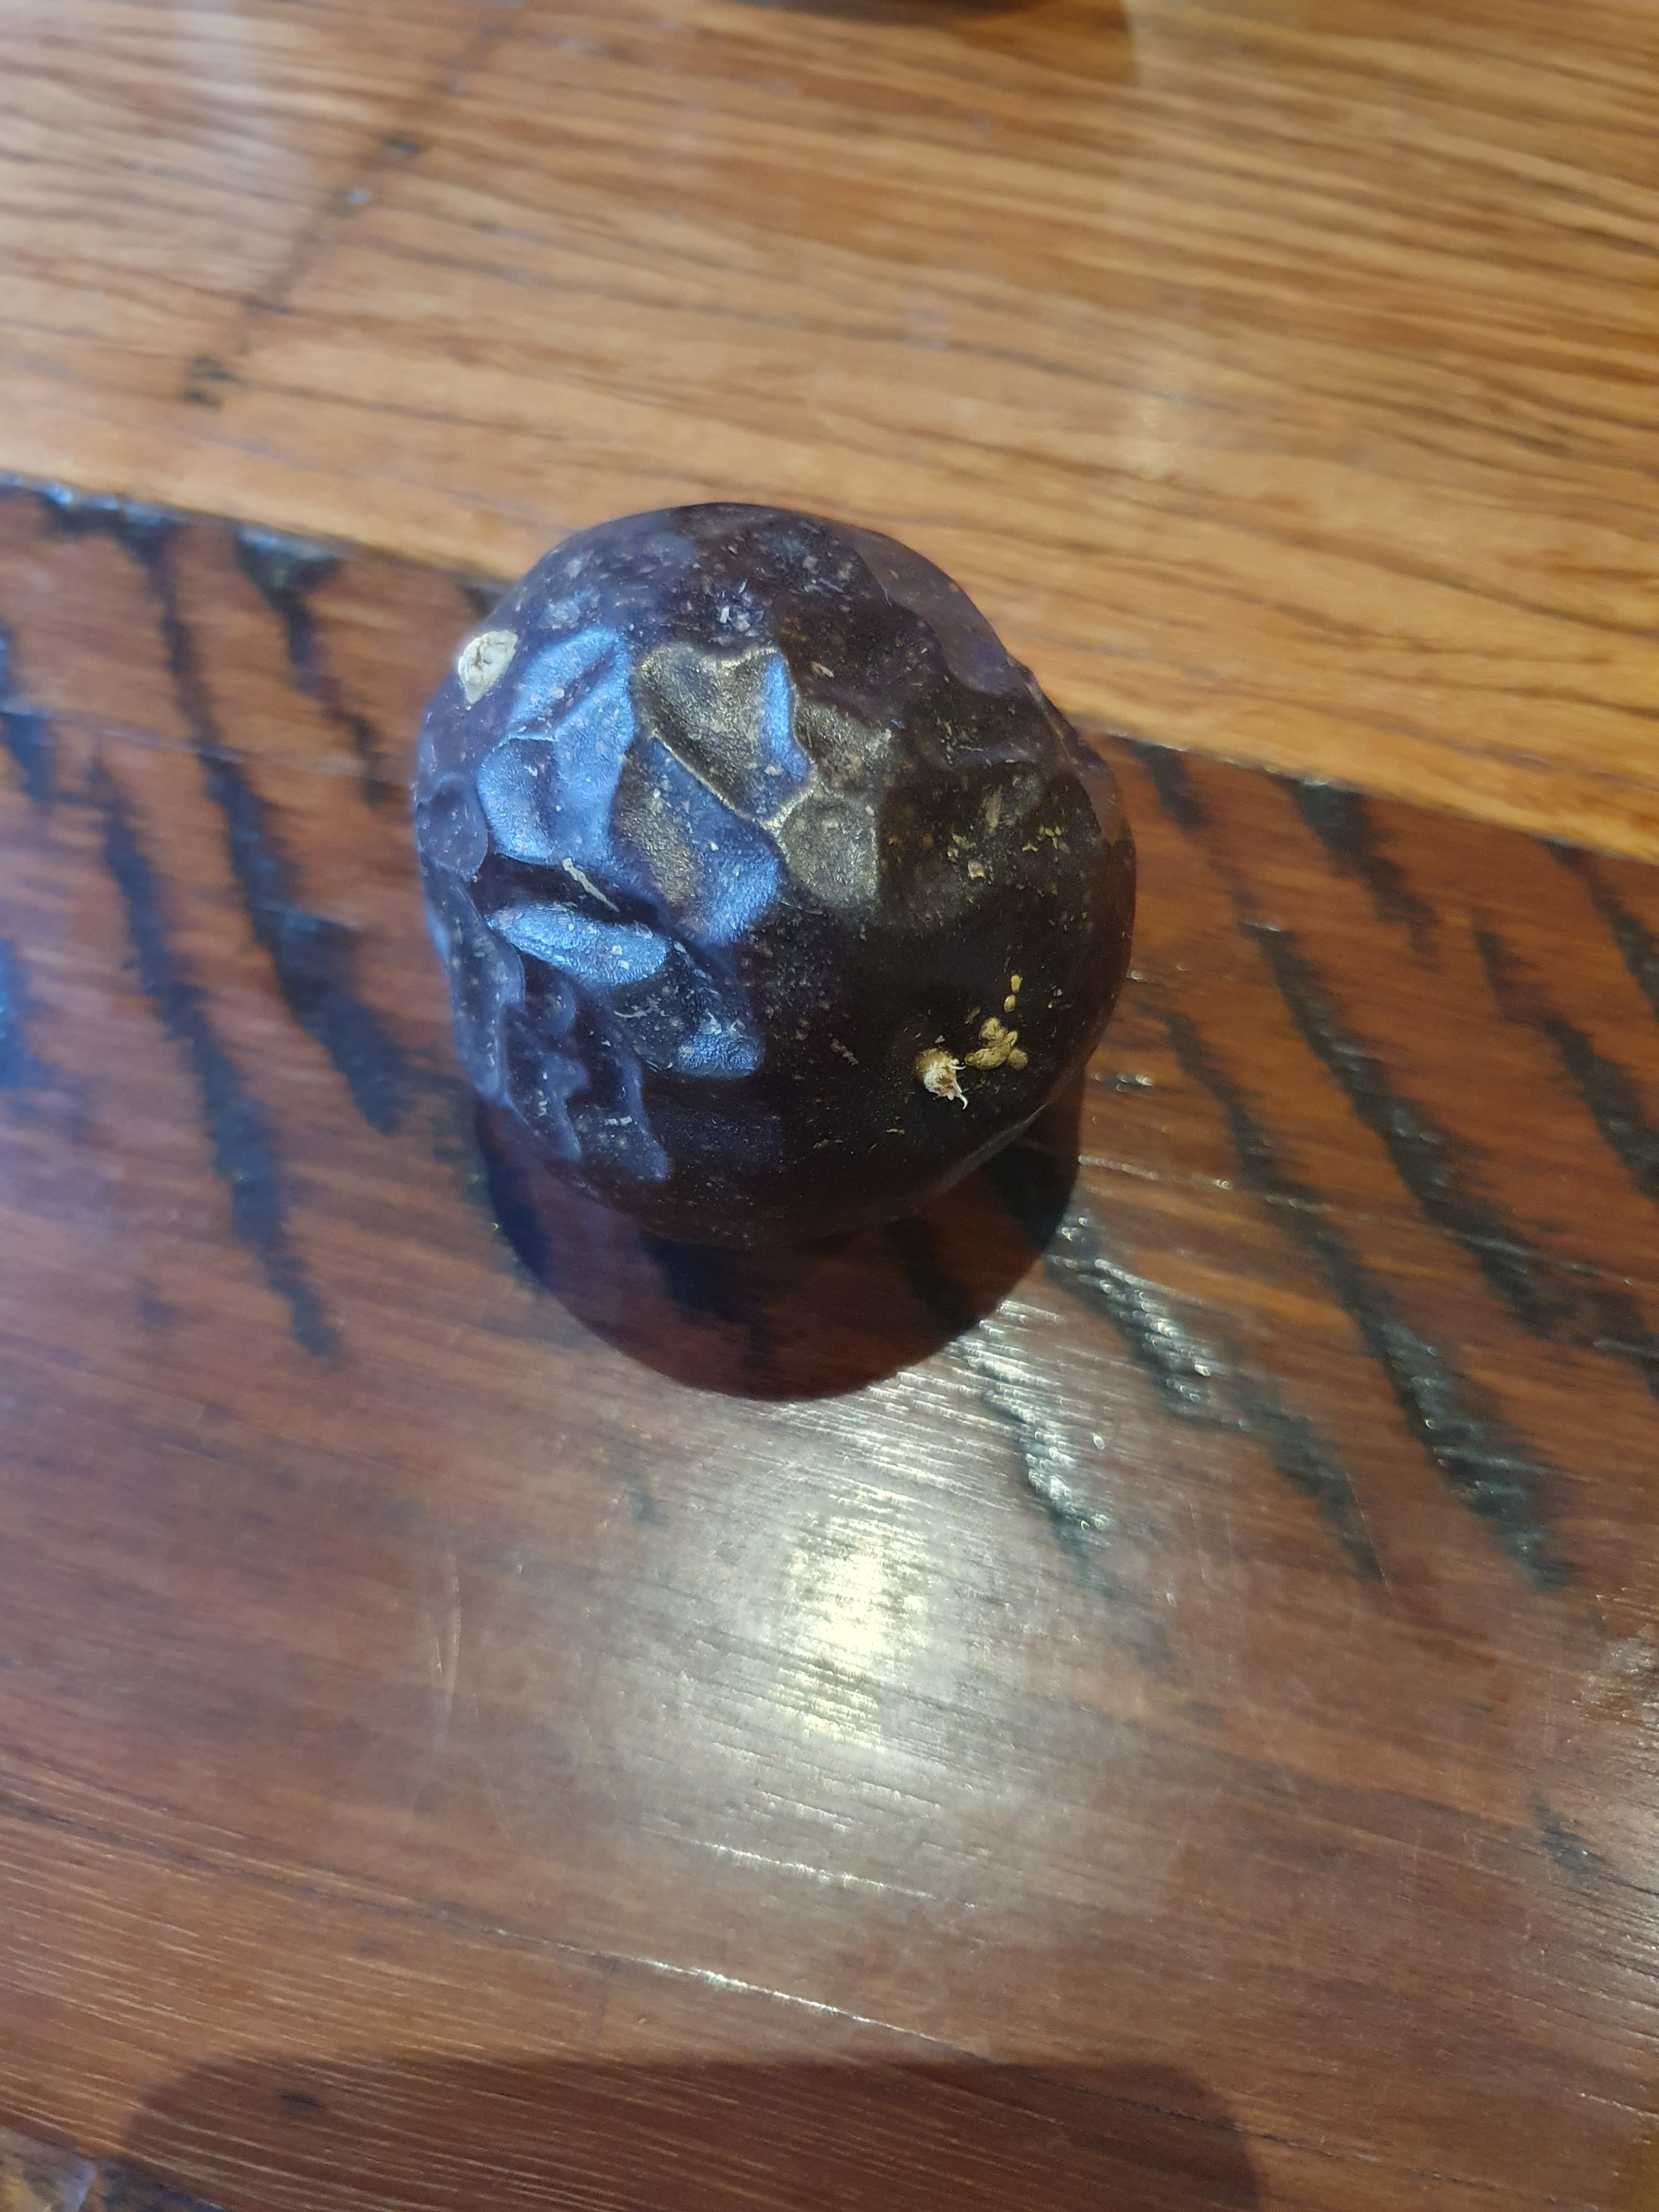passionfruit: (369, 500, 1164, 1261)
